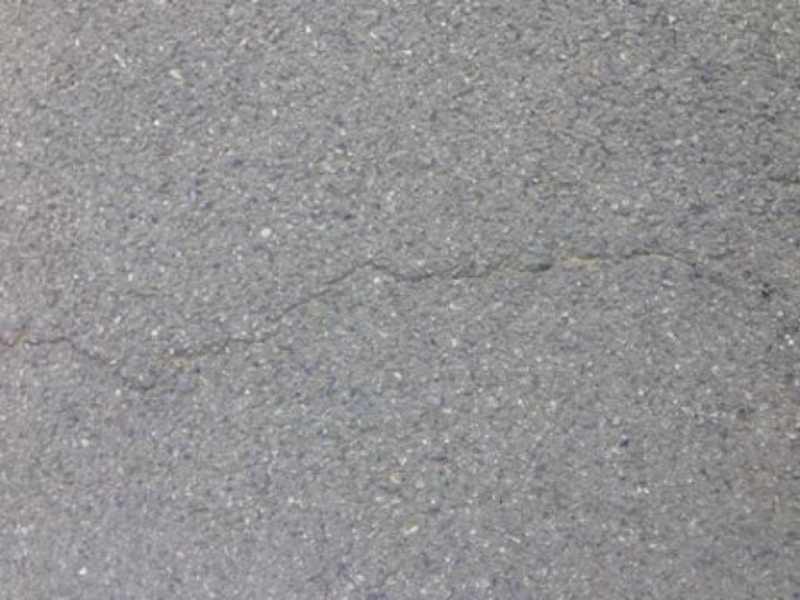crack: (51, 223, 768, 382)
